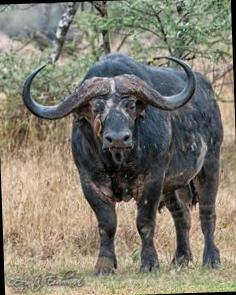Buffalo: (14, 38, 228, 285)
